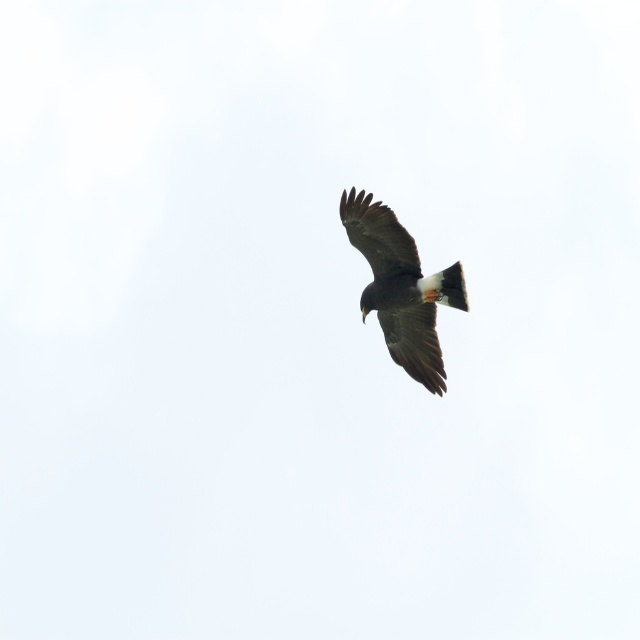Eagle: (335, 180, 469, 390)
